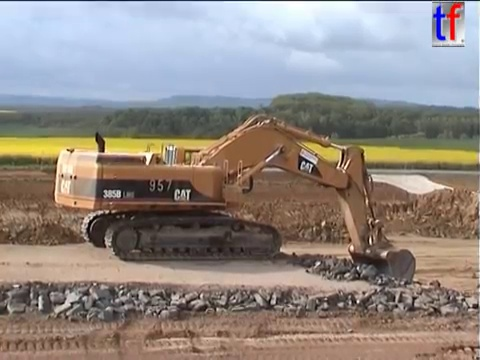excavator: (51, 111, 418, 303)
